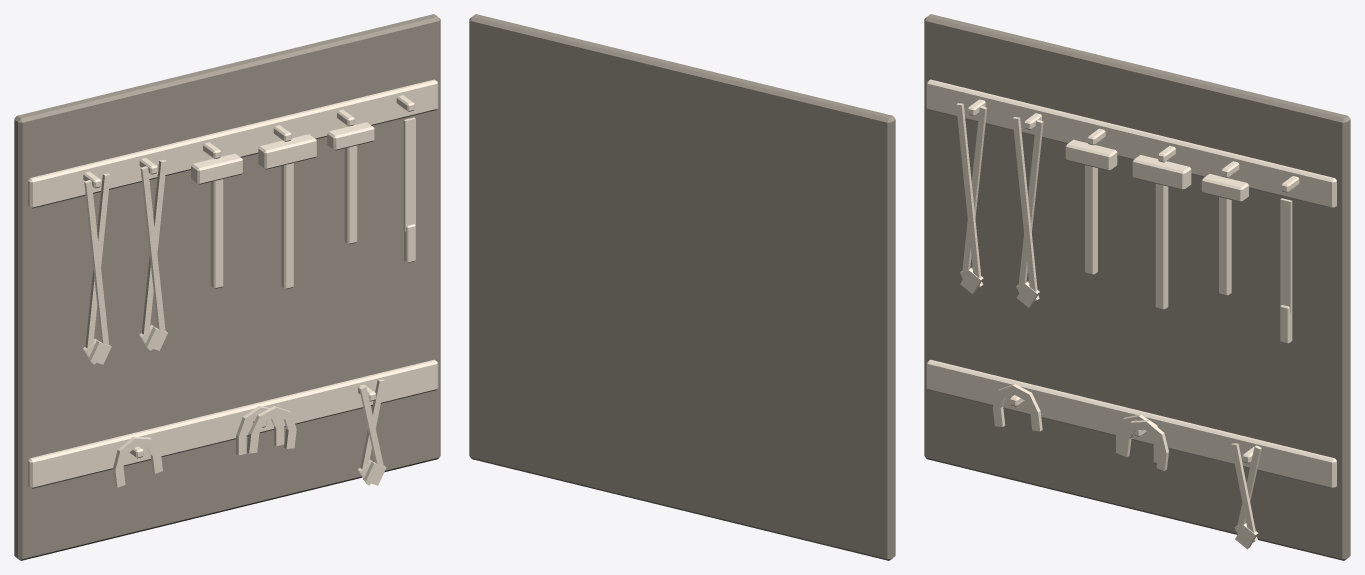
The model's file is SM_VKI_Prop_ToolWall_150.fbx.
3 views of the same model, side by side, from view 1: azimuth 30°, elevation 25°; view 2: azimuth 150°, elevation 25°; view 3: azimuth 330°, elevation 25° (orthographic).
Parts seen in each view (by area): view 1: SM_VKI_Prop_ToolWall_150.001; view 2: SM_VKI_Prop_ToolWall_150.001; view 3: SM_VKI_Prop_ToolWall_150.001.
Part boxes in pixels (x1,y1,x2,y2): SM_VKI_Prop_ToolWall_150.001: [14, 14, 440, 560]; SM_VKI_Prop_ToolWall_150.001: [469, 14, 895, 560]; SM_VKI_Prop_ToolWall_150.001: [924, 14, 1350, 560].
Bounding box in the file's own units: 1.2 × 1.2 × 0.125.
